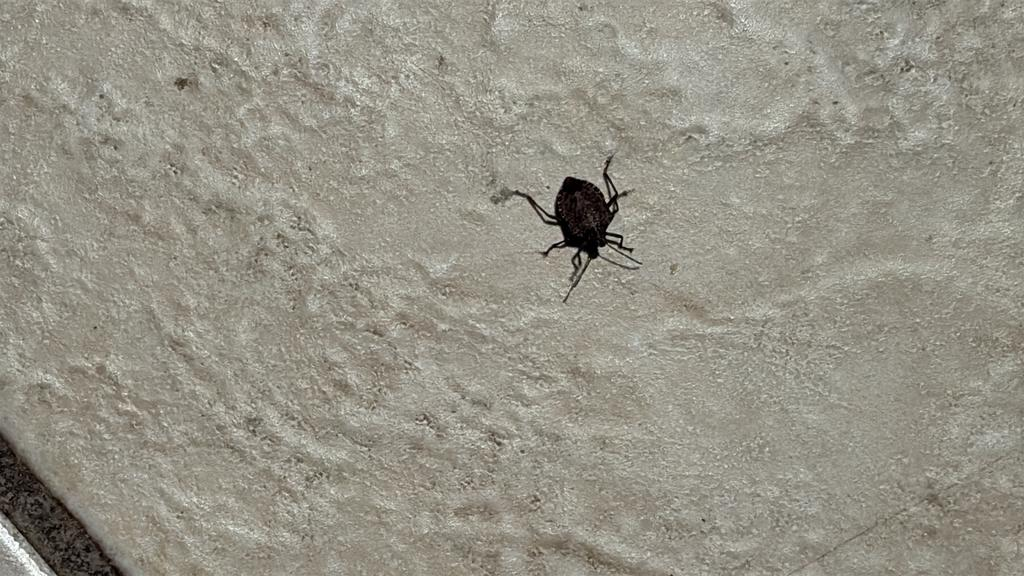stink_bugs: (475, 129, 673, 318)
